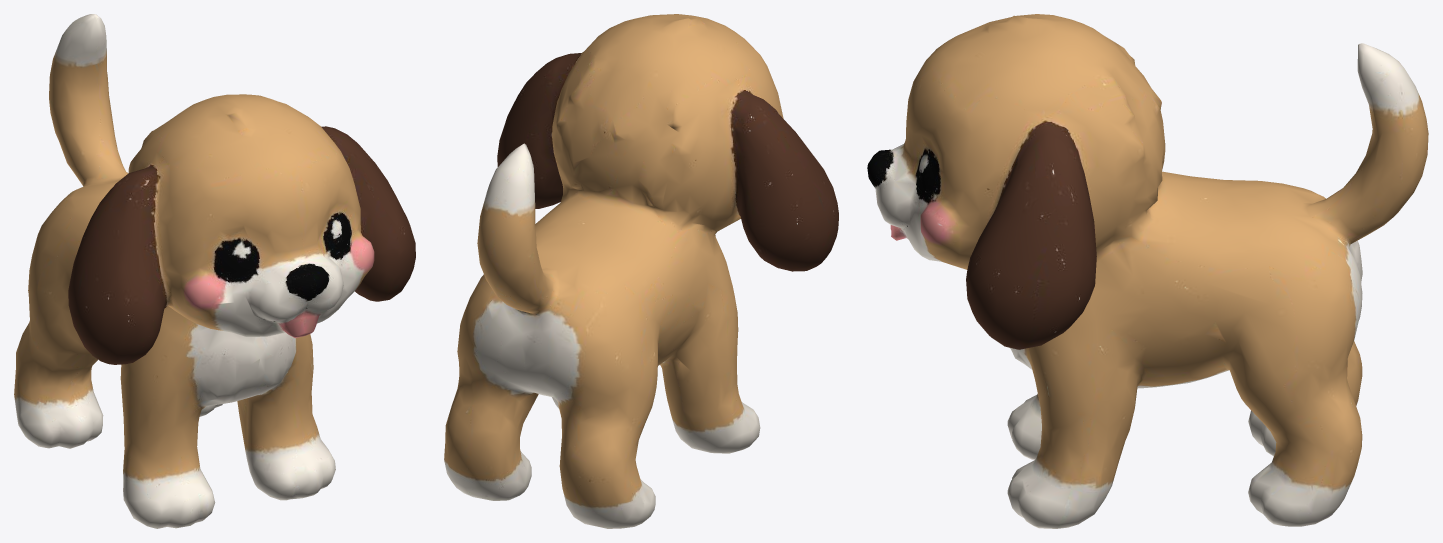
The model's file is dog.glb.
3 renders of one model, left to right at view 1: azimuth 30°, elevation 25°; view 2: azimuth 150°, elevation 25°; view 3: azimuth 270°, elevation 25°, orthographic. The views are drawn at different scales.
Parts seen in each view (by area): view 1: Mesh_0.001; view 2: Mesh_0.001; view 3: Mesh_0.001.
Boxes of the visible parts, <box> form: Mesh_0.001: <box>14,14,415,528</box>; Mesh_0.001: <box>444,14,838,528</box>; Mesh_0.001: <box>867,14,1428,528</box>.
Size of the model in its own units: 1.44 by 1.71 by 1.89.
Materials: 1 (1 with a texture image).
